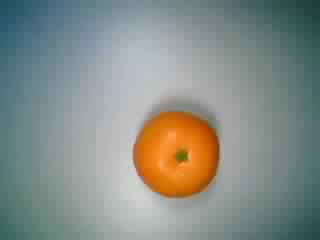orange: (128, 99, 223, 201)
